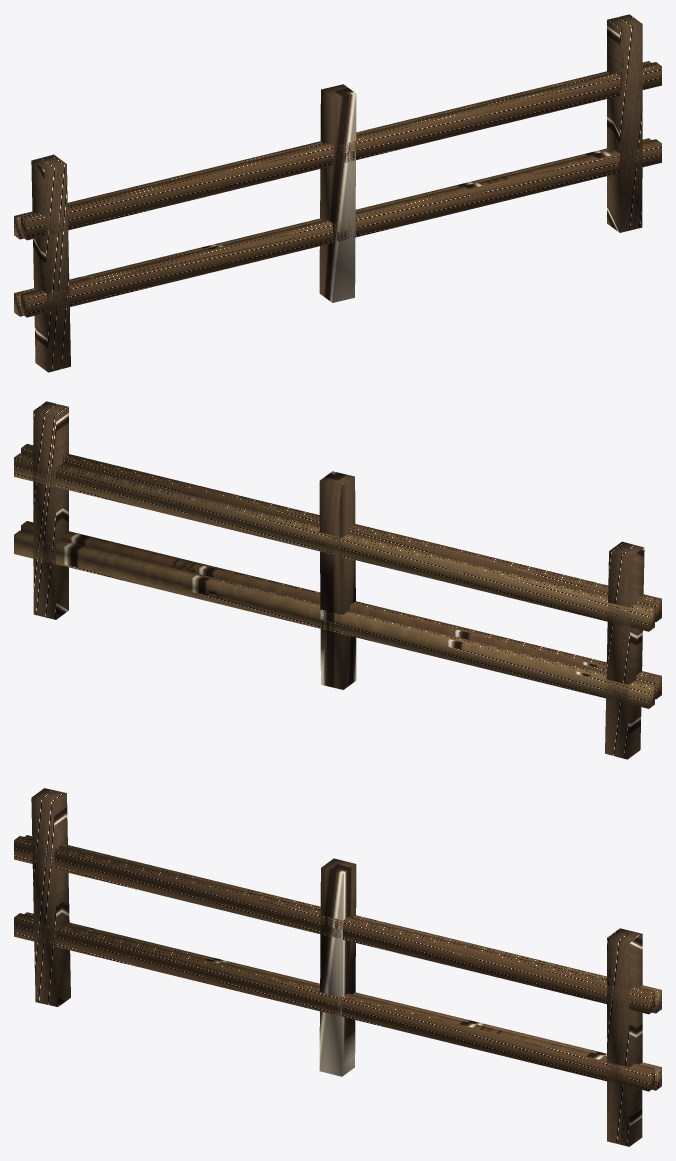
Rendered from fence_wood.glb.
3 views of the same model, one above another, from view 1: azimuth 30°, elevation 25°; view 2: azimuth 150°, elevation 25°; view 3: azimuth 330°, elevation 25° (orthographic).
Visible parts, largest first — view 1: geometry_1, geometry_0, geometry_2; view 2: geometry_2, geometry_0, geometry_1; view 3: geometry_1, geometry_0, geometry_2.
Boxes of the visible parts, bbox=[...] form: geometry_1: bbox=[21, 62, 661, 317]; geometry_0: bbox=[31, 14, 642, 372]; geometry_2: bbox=[14, 61, 651, 316]; geometry_2: bbox=[14, 453, 654, 708]; geometry_0: bbox=[33, 401, 644, 759]; geometry_1: bbox=[21, 444, 661, 699]; geometry_1: bbox=[14, 836, 654, 1091]; geometry_0: bbox=[31, 788, 642, 1146]; geometry_2: bbox=[24, 835, 661, 1090].
Bounding box in the file's own units: 3.1 × 0.9521 × 0.11.
3 materials, 3 textured.
